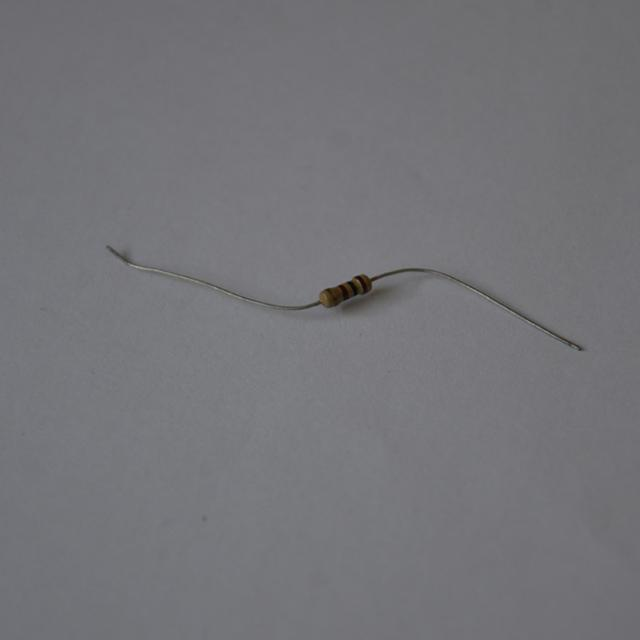Resistor Carbon-Film: (312, 265, 379, 311)
